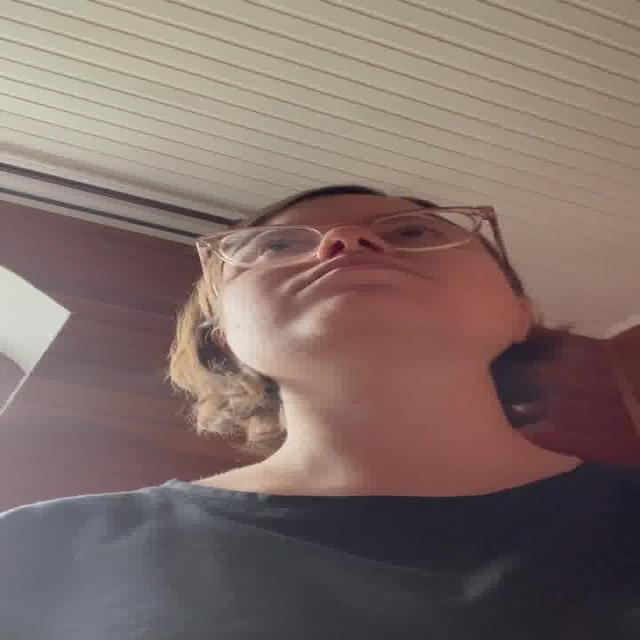earlobe: (505, 325, 530, 344)
eye: (248, 240, 310, 254), (384, 228, 444, 239)
nose: (320, 246, 390, 256)
wholeear: (504, 295, 534, 344)
